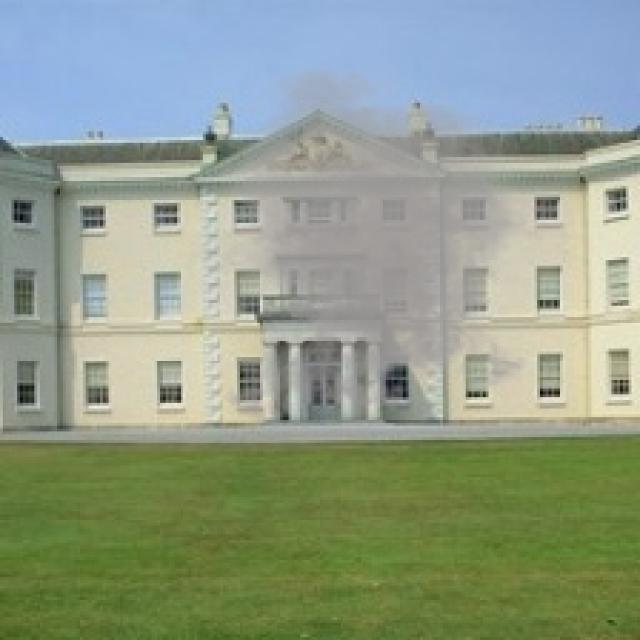smoke: (163, 60, 588, 434)
